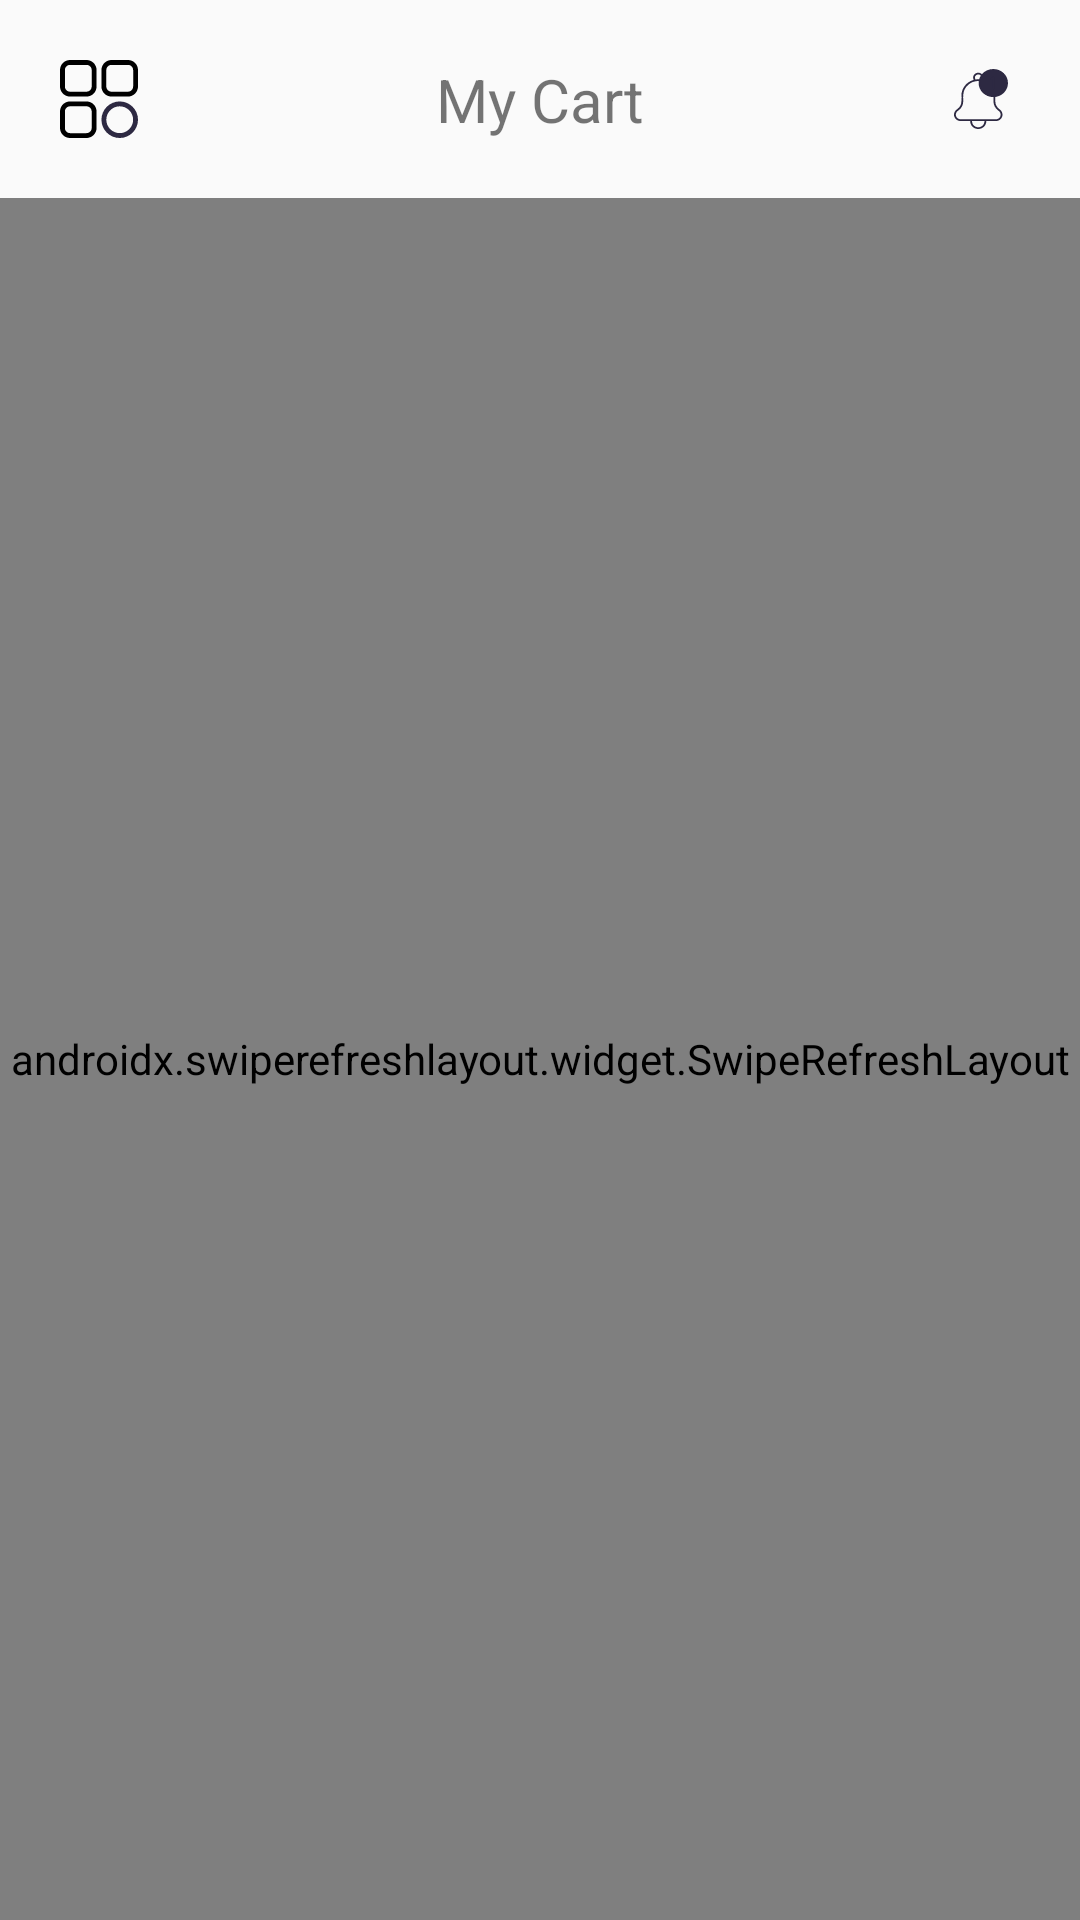

Point at icon controls on the screen. Image size 1080w x 1920h, points as [x,y].
home menu: [99,99]
home notification: [981,99]
